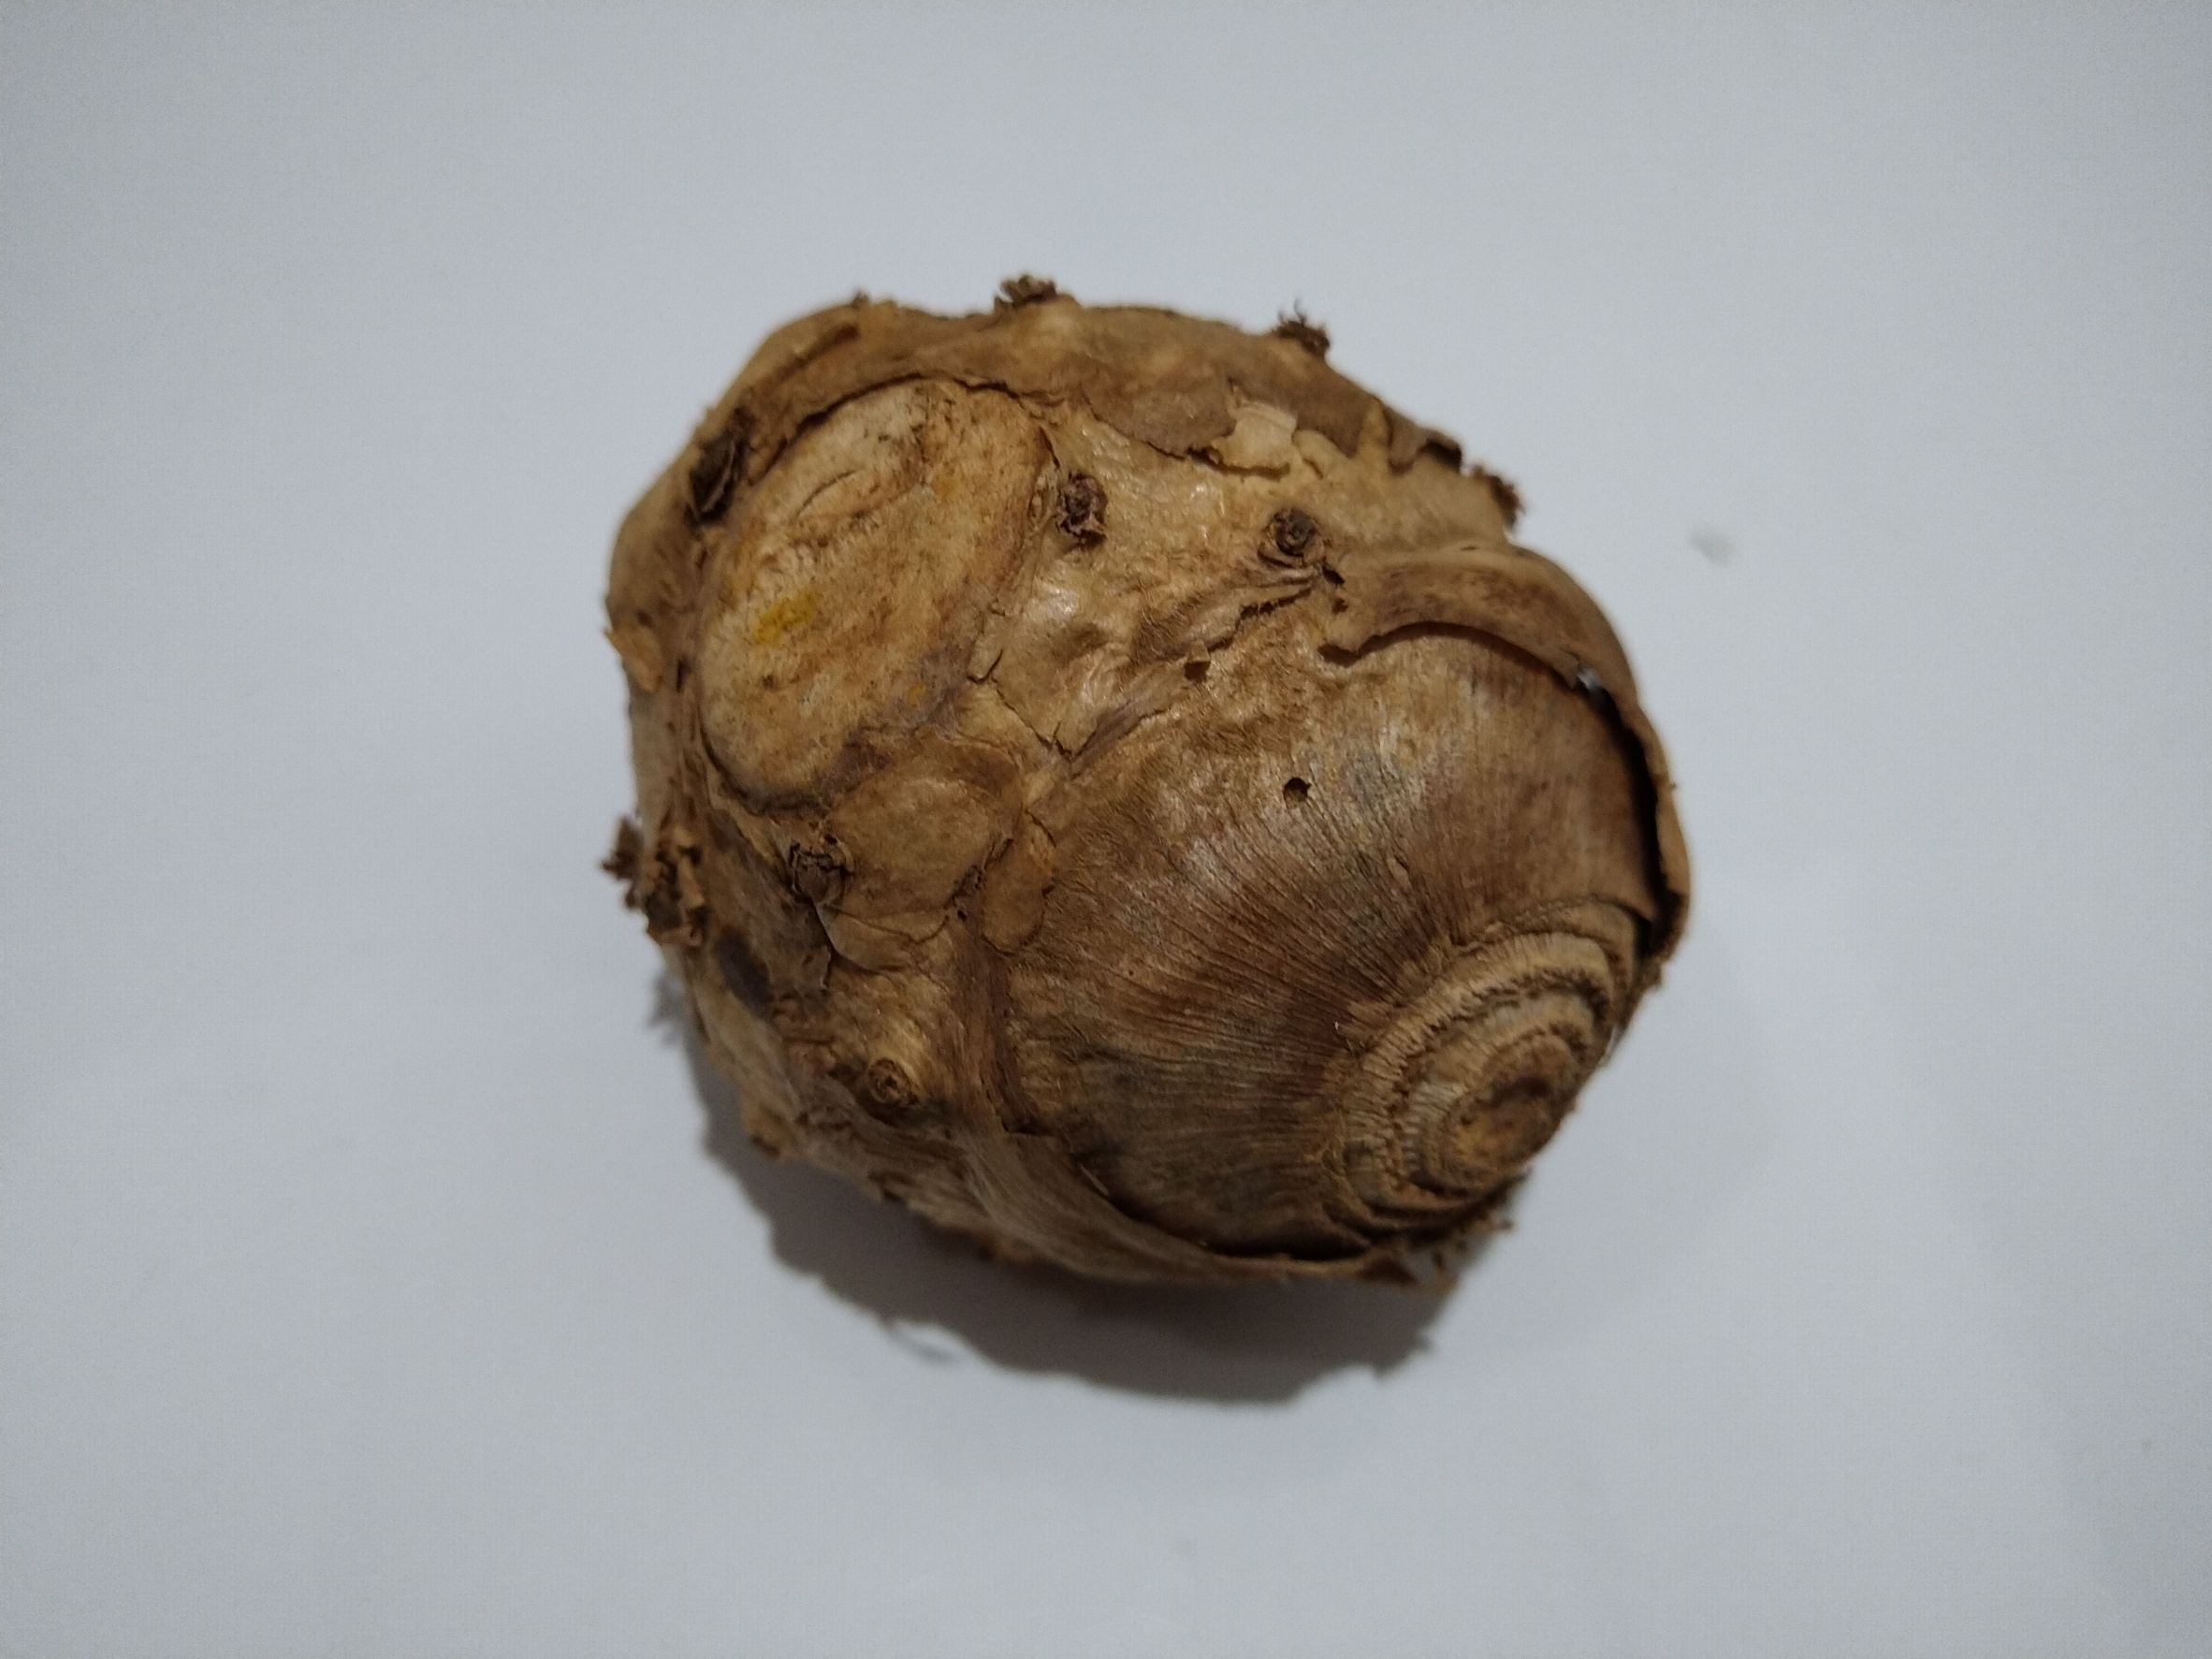Temulawak: (594, 281, 1712, 1354)
